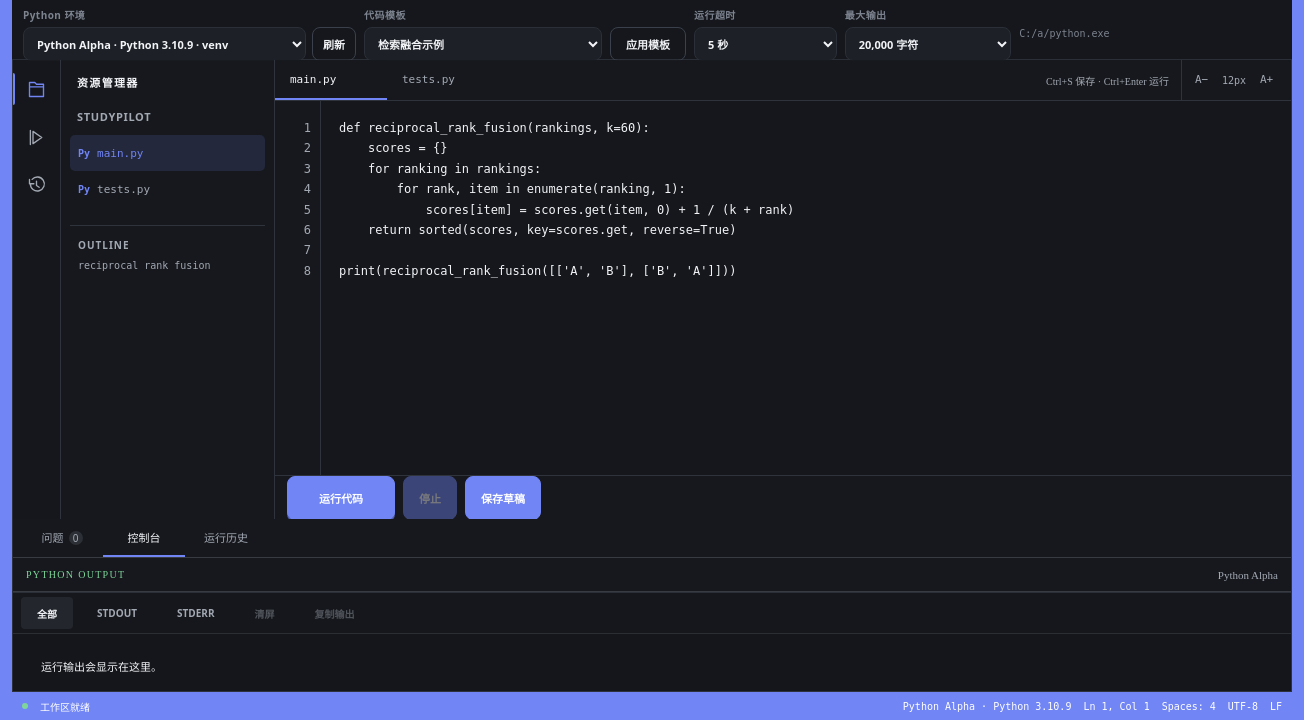
Test case: locks the selected interpreter while an active run is polling
Click the button "运行代码" at (341, 498), box [287, 476, 395, 520]
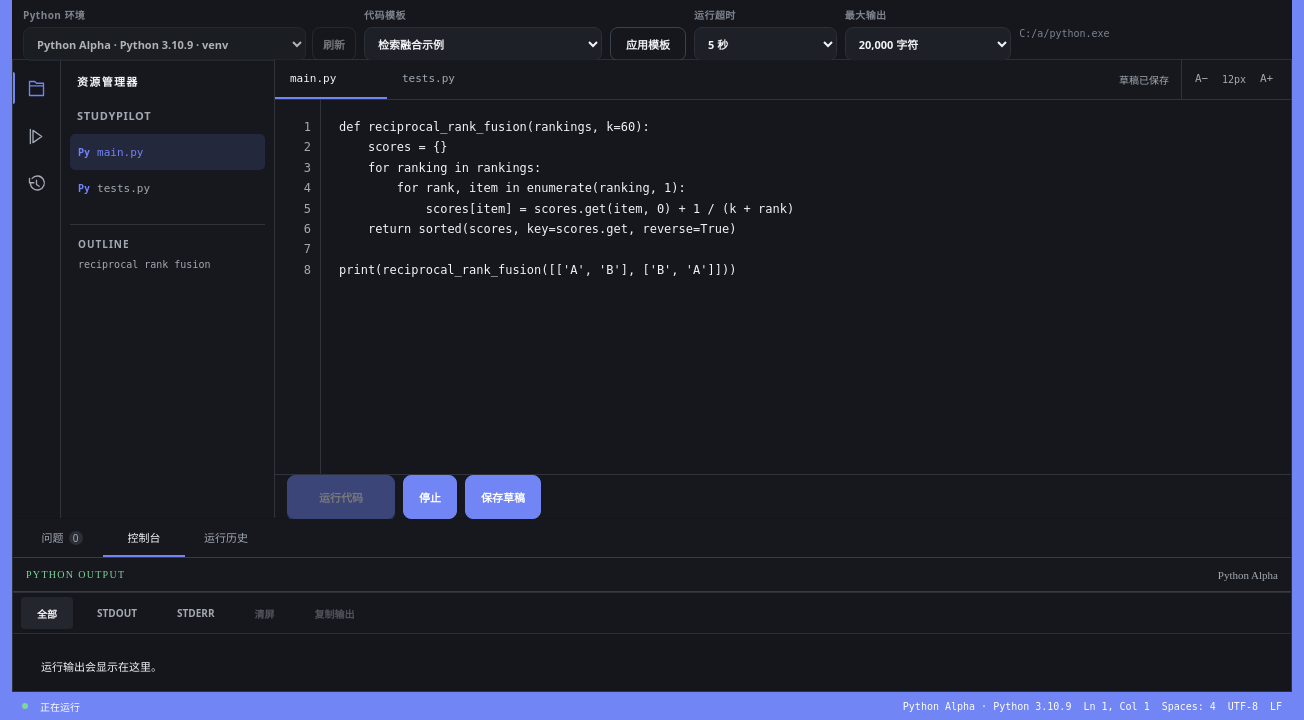
Expected: the dropdown labelled "Python 环境" is disabled, [23, 27, 306, 61]
